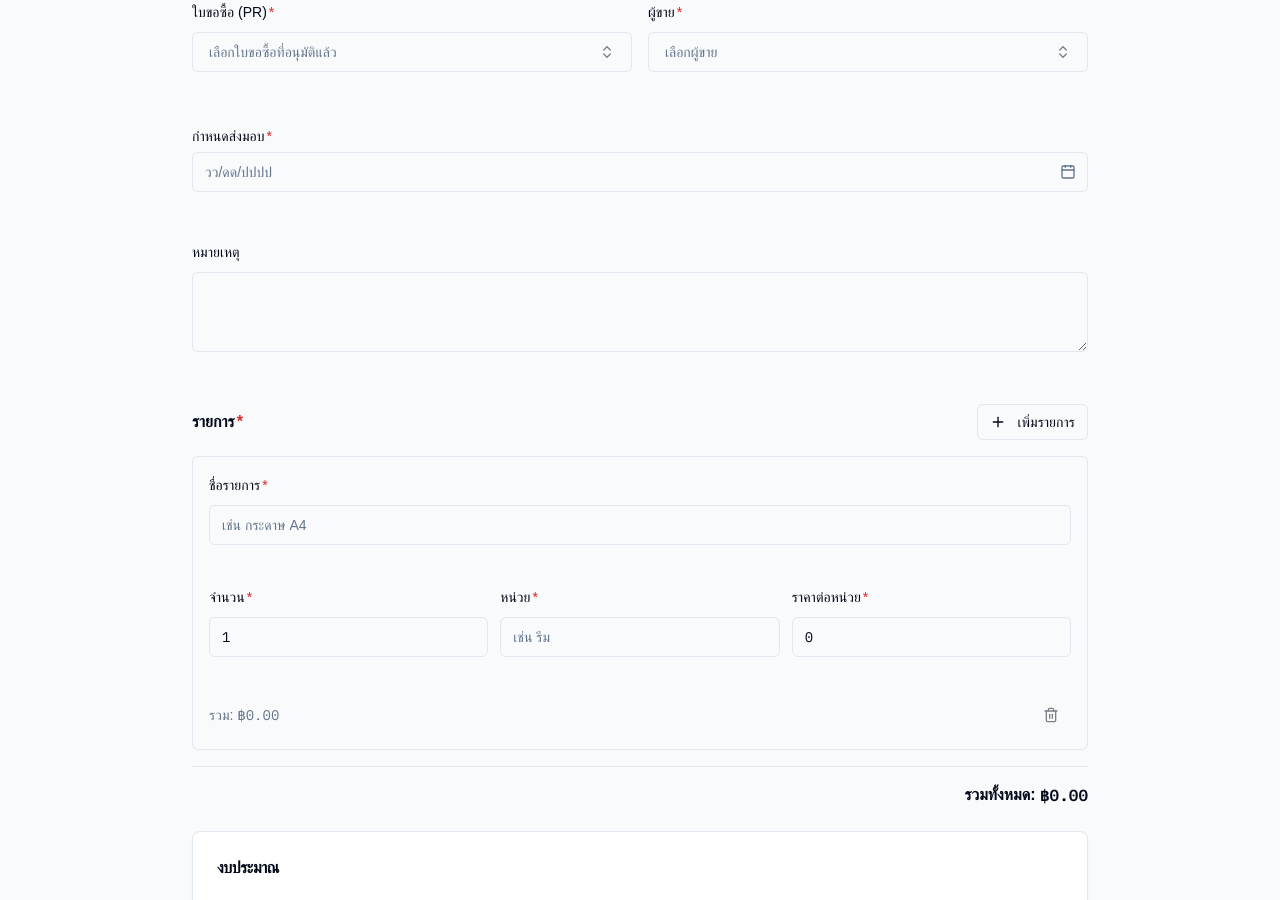
Test case: POForm › create mode: selecting a PR copies its items into the form (unitPrice from estimatedUnitPrice)
Click the dropdown labelled "เลือกใบขอซื้อที่อนุมัติแล้ว" at (273, 52), box [192,32,632,72]
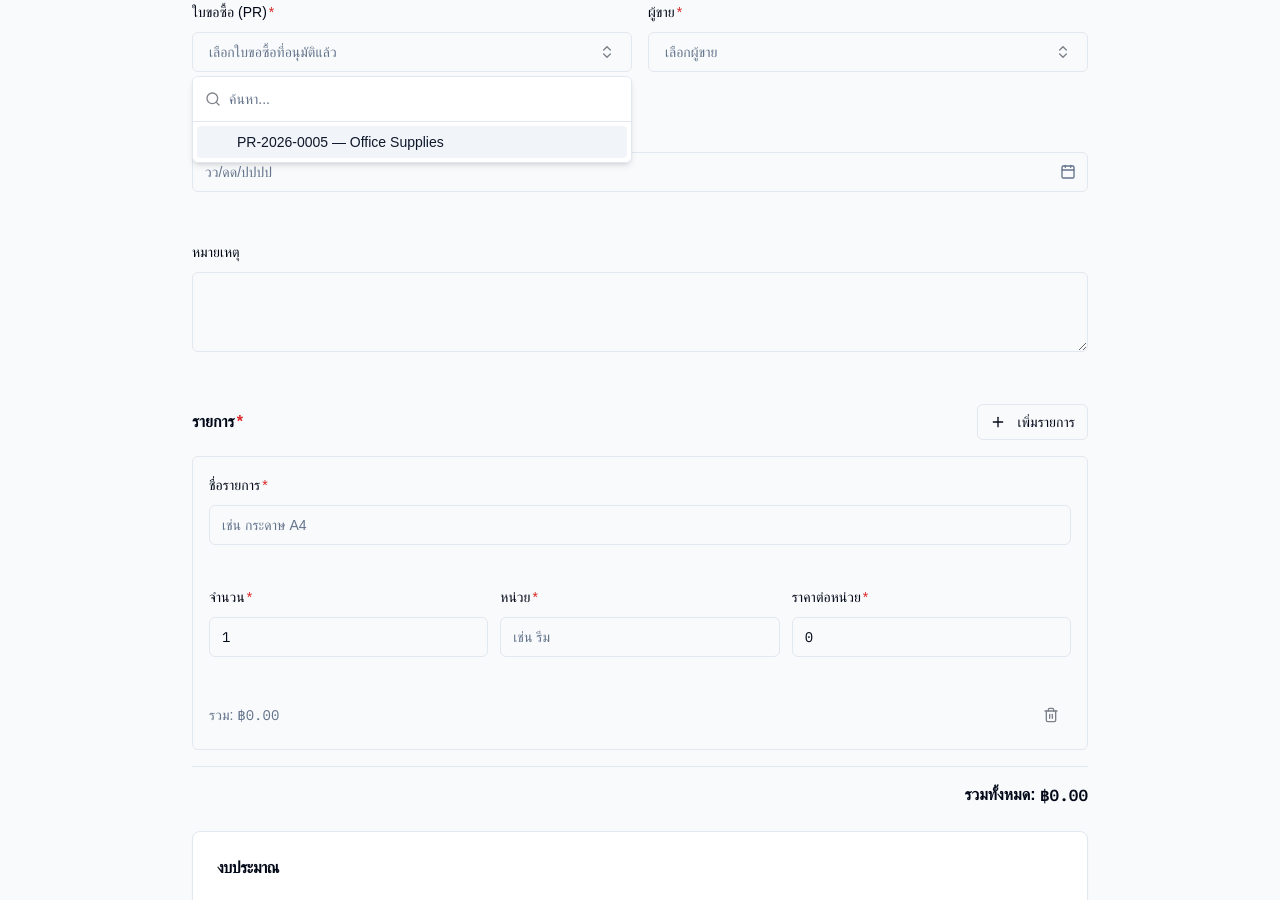
Click the option "PR-2026-0005 — Office Supplies" at (412, 142), box [197,126,627,158]
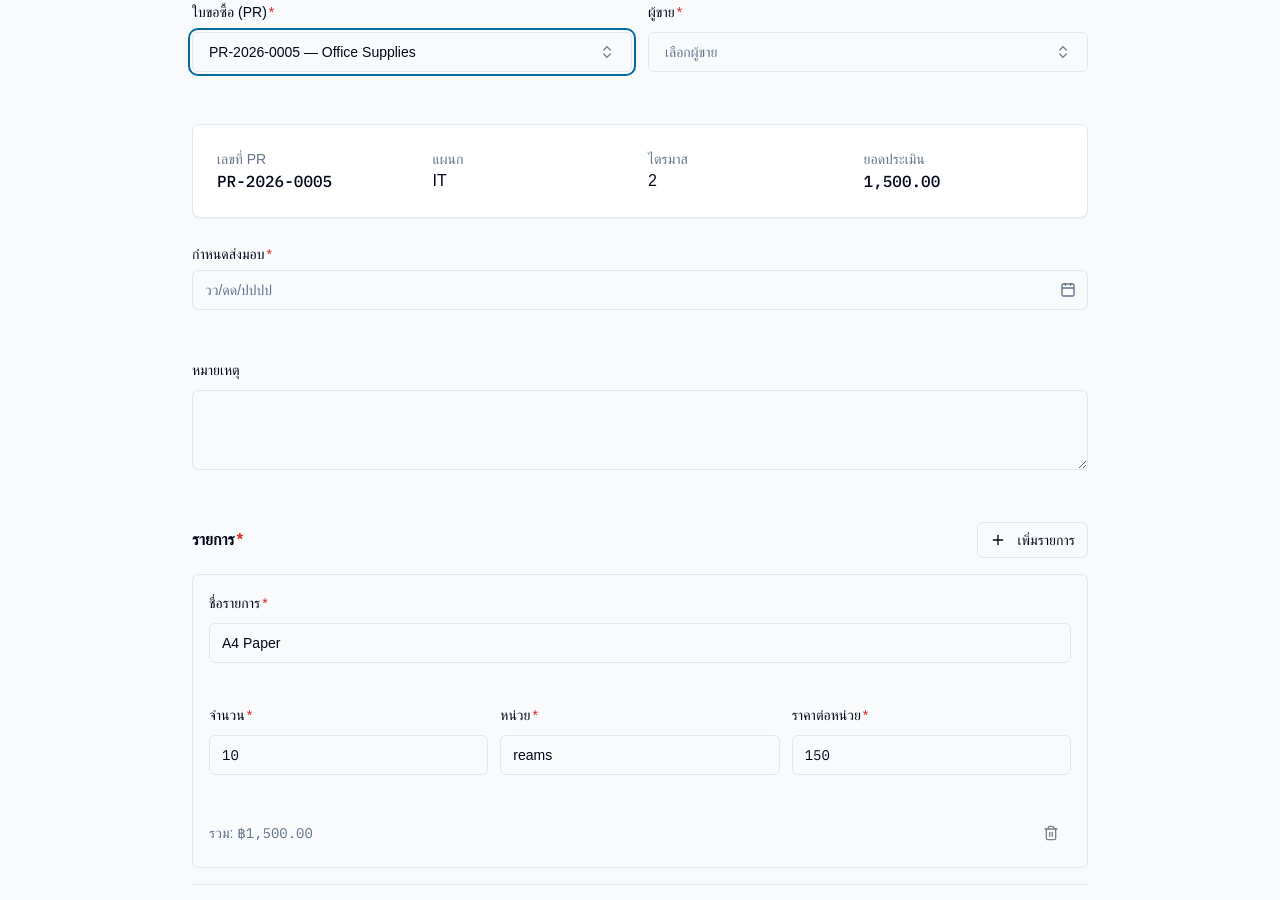
Expected: the field showing "A4 Paper" is shown, [209,623,1071,663]
Expected: the number field showing "150" is shown, [792,735,1071,775]
